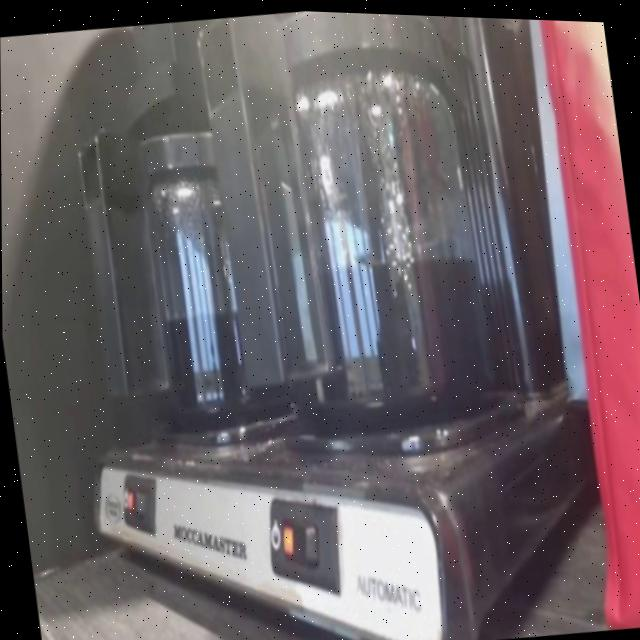coffee: (268, 90, 483, 429), (129, 193, 293, 428)
